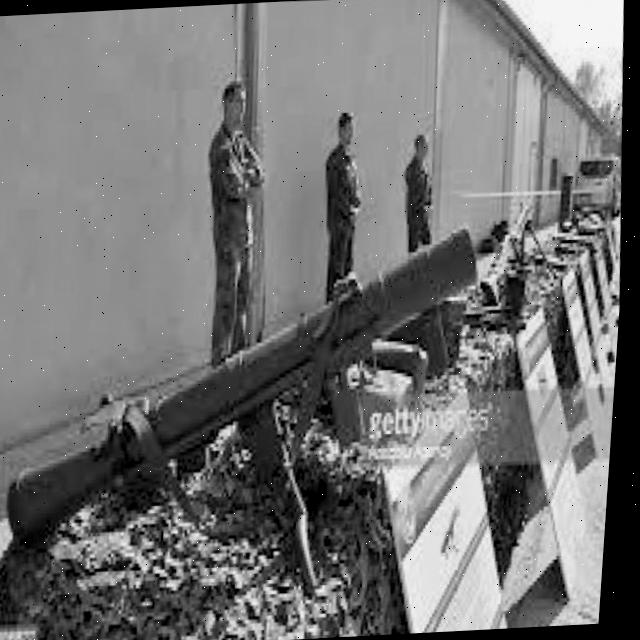rocket: (0, 218, 499, 556)
